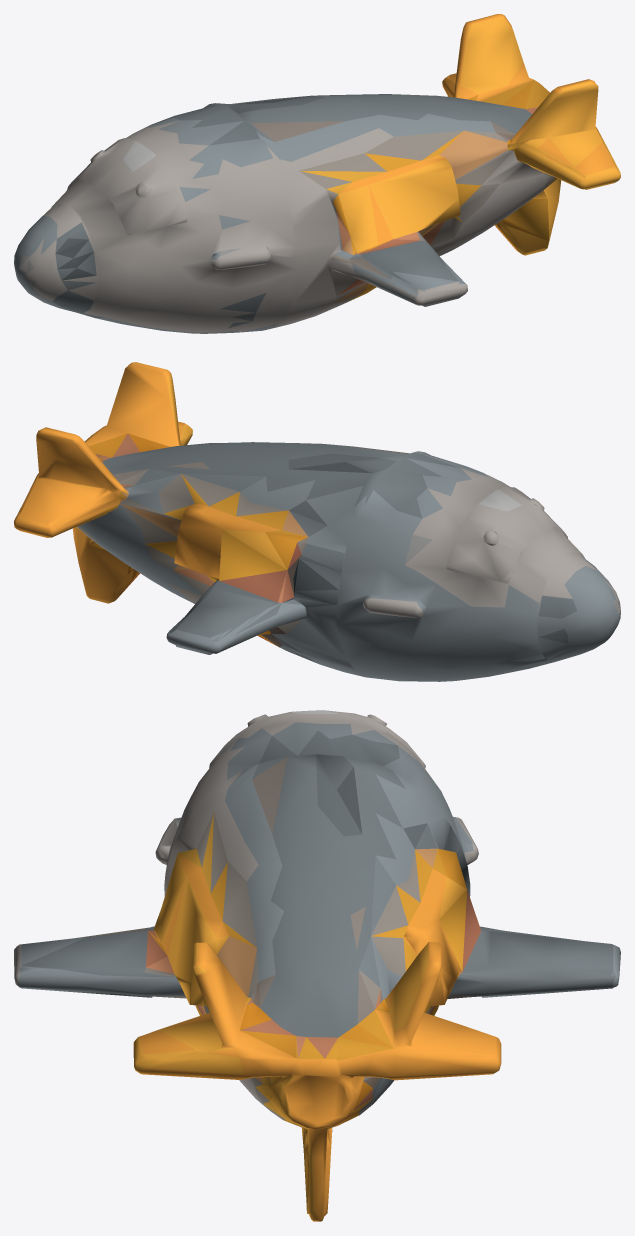
The model's file is sponsor_shell.glb.
3 views of the same model, one above another, from view 1: azimuth 30°, elevation 25°; view 2: azimuth 150°, elevation 25°; view 3: azimuth 270°, elevation 25° (orthographic). The views are drawn at different scales.
Visible parts, largest first — view 1: Mesh_0; view 2: Mesh_0; view 3: Mesh_0.
Part boxes in pixels (x1,y1,x2,y2): Mesh_0: [14, 14, 620, 333]; Mesh_0: [14, 362, 620, 681]; Mesh_0: [14, 710, 620, 1221].
Size of the model in its own units: 2.18 by 0.8 by 1.6.
Materials: 1 (1 with a texture image).
